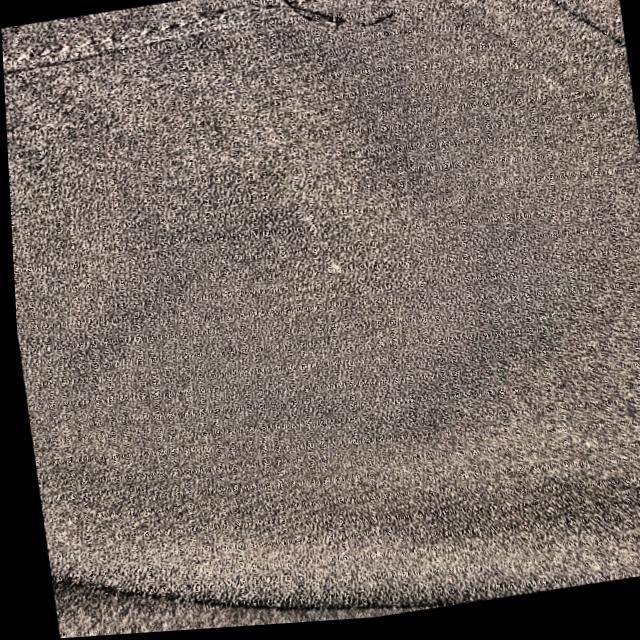Stitch: (202, 0, 421, 95)
